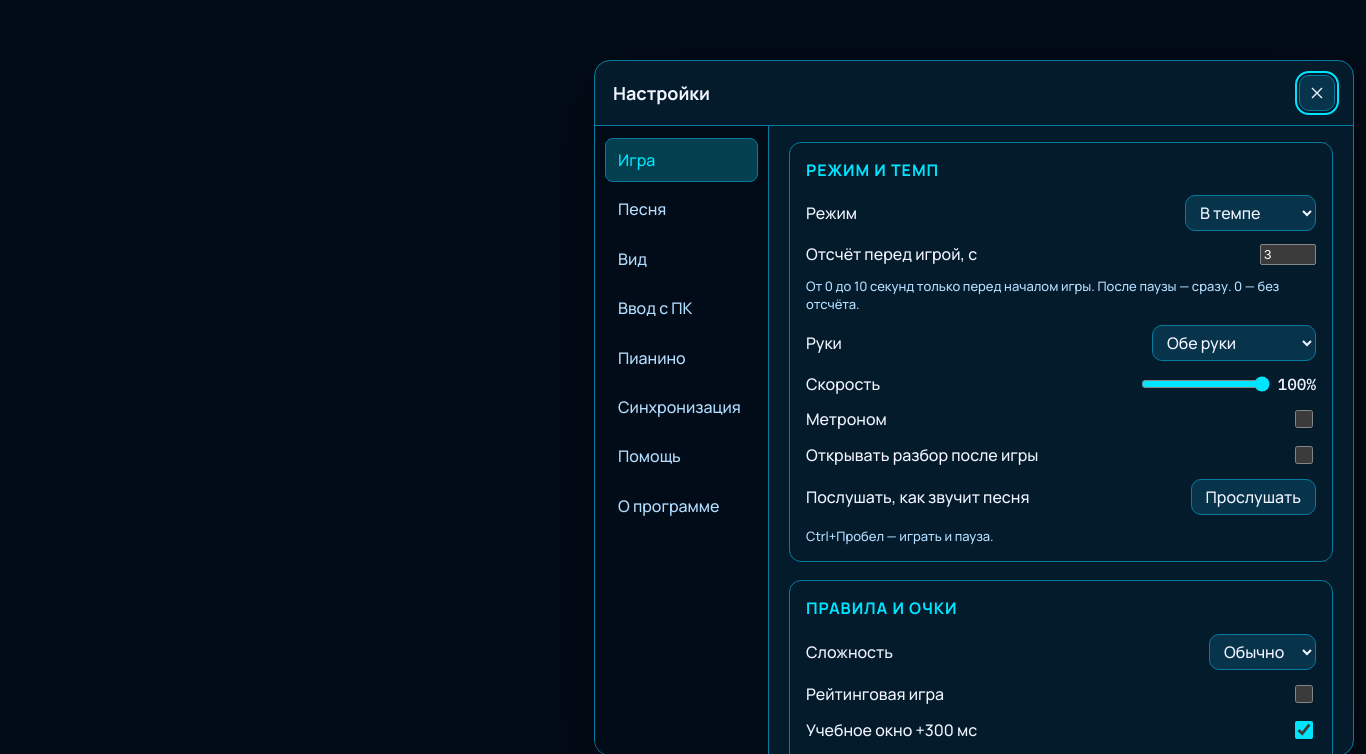
Scenario: targets the explained unavailable MIDI channel in browser-only mode in ru
Click the tab "Помощь": (682, 456) top-left (605, 434), bottom-right (758, 479)
(page scrolled)
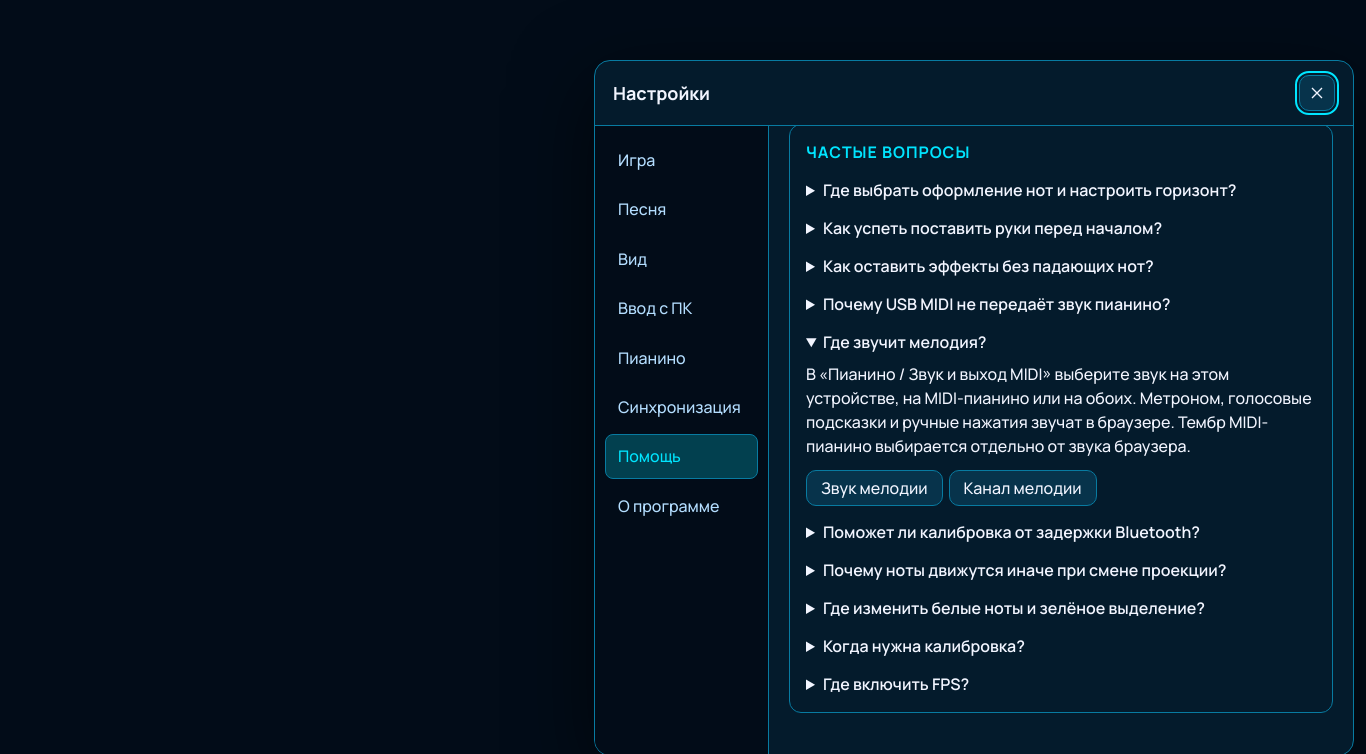
Click the button "Канал мелодии": (1022, 488) top-left (948, 470), bottom-right (1096, 506)
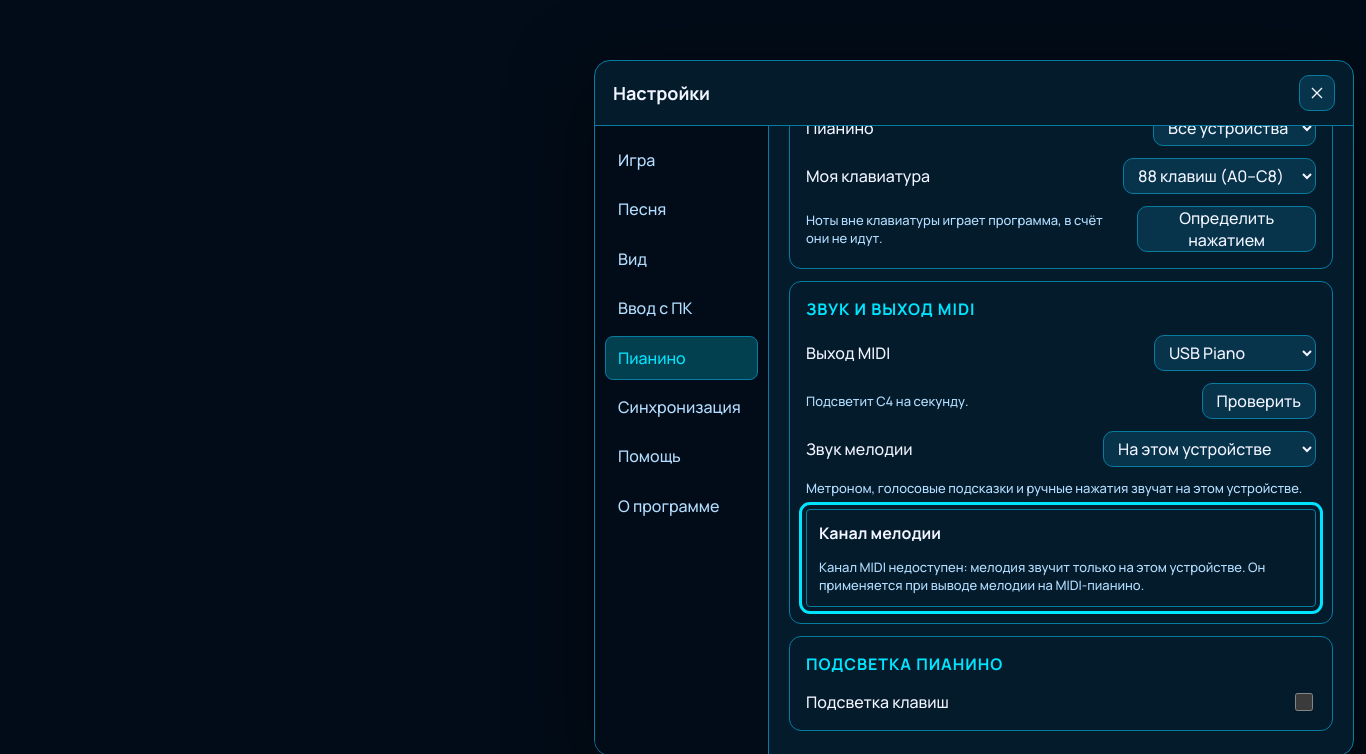
Check: the element named "Канал мелодии" is shown, box top-left (806, 509), bottom-right (1316, 607)
Check: the element named "Канал мелодии" shows "Канал MIDI недоступен", box top-left (819, 558), bottom-right (1265, 594)
Check: the dropdown labelled "Звук мелодии" shows "На этом устройстве", box top-left (1103, 431), bottom-right (1316, 467)
